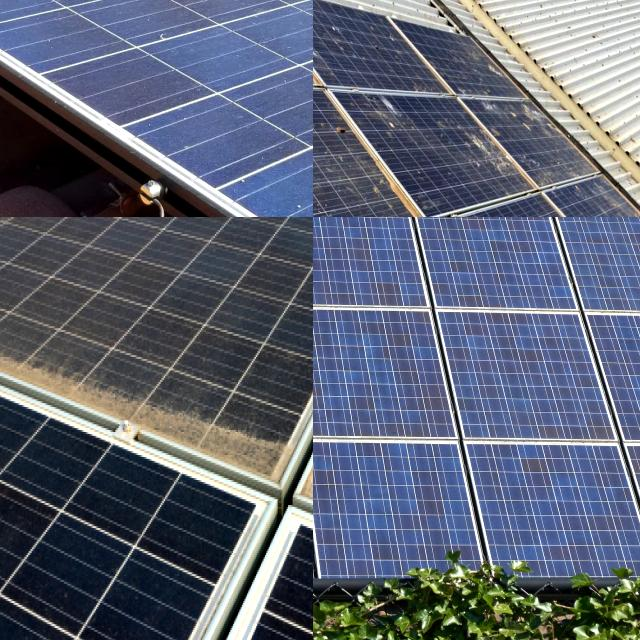bird: (360, 82, 417, 150), (313, 76, 340, 182), (313, 36, 348, 105), (313, 152, 348, 217), (334, 106, 346, 160), (448, 207, 507, 217)
crack: (458, 434, 640, 611), (313, 437, 496, 609), (313, 304, 485, 449), (313, 431, 422, 602), (405, 217, 578, 312), (313, 217, 447, 328), (313, 434, 385, 597), (313, 303, 400, 435), (313, 300, 383, 454), (313, 217, 403, 321)
dust: (109, 398, 313, 481), (0, 569, 173, 640), (219, 58, 313, 166), (0, 339, 125, 412), (34, 217, 219, 266), (60, 0, 182, 60), (228, 0, 313, 61), (229, 217, 313, 277)
